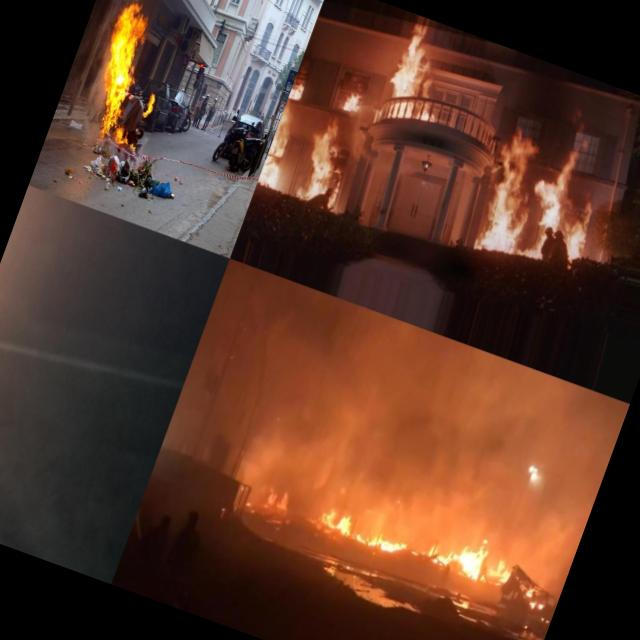fire: (315, 492, 518, 600), (521, 123, 623, 264), (464, 129, 556, 261), (89, 0, 158, 142), (373, 30, 460, 140), (256, 100, 308, 192), (100, 0, 146, 75), (258, 472, 298, 516), (335, 78, 372, 123), (287, 62, 316, 106), (108, 120, 134, 148), (140, 90, 158, 122), (125, 139, 142, 157)
smoke: (238, 321, 616, 577), (59, 0, 137, 133), (501, 72, 576, 148), (564, 78, 636, 142), (59, 14, 99, 106), (76, 72, 112, 142)
